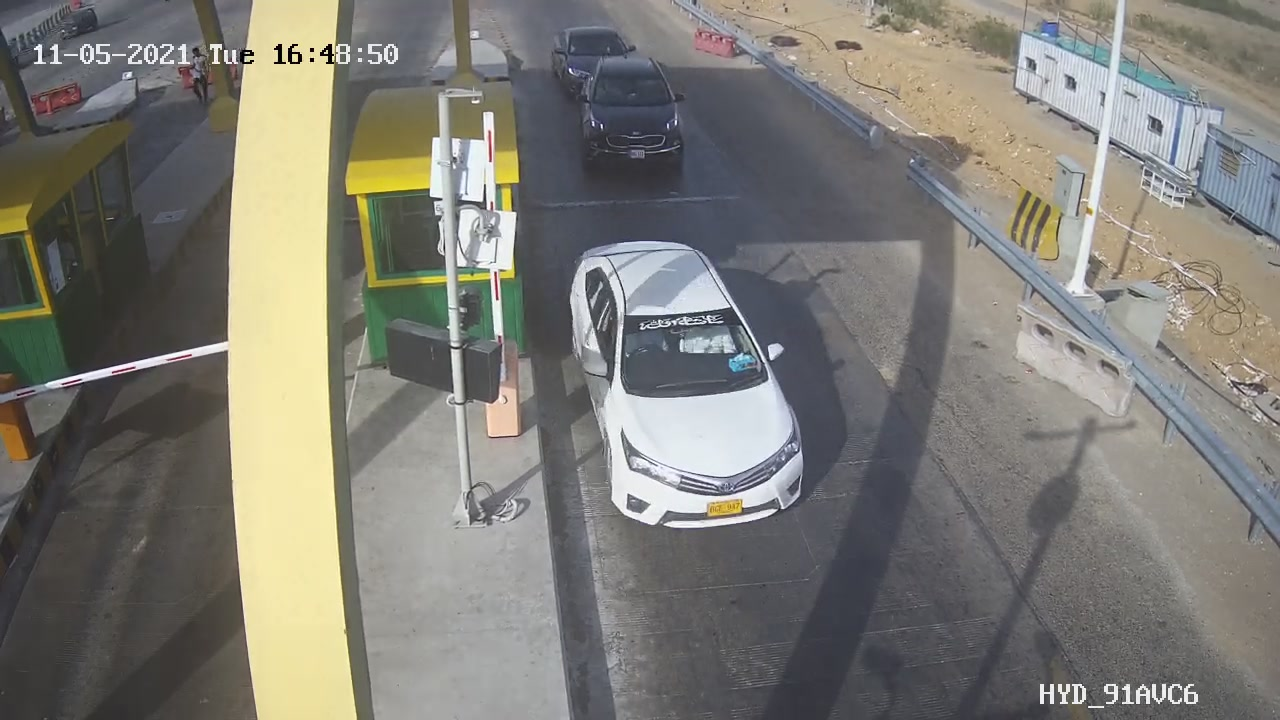F1: (566, 46, 699, 187)
